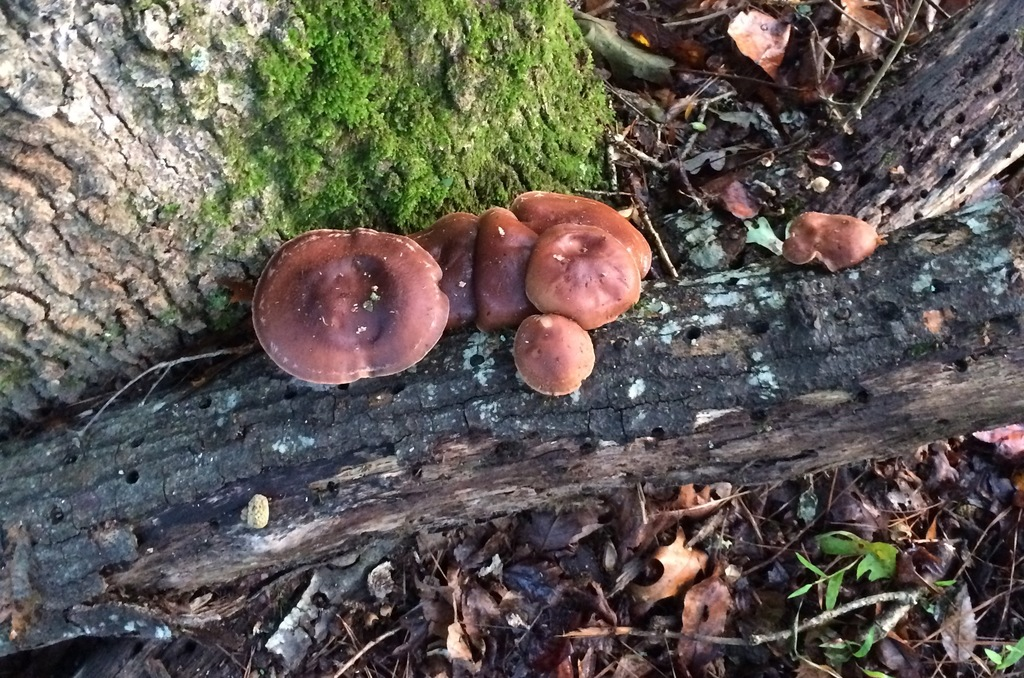Tree: (0, 0, 1024, 659)
